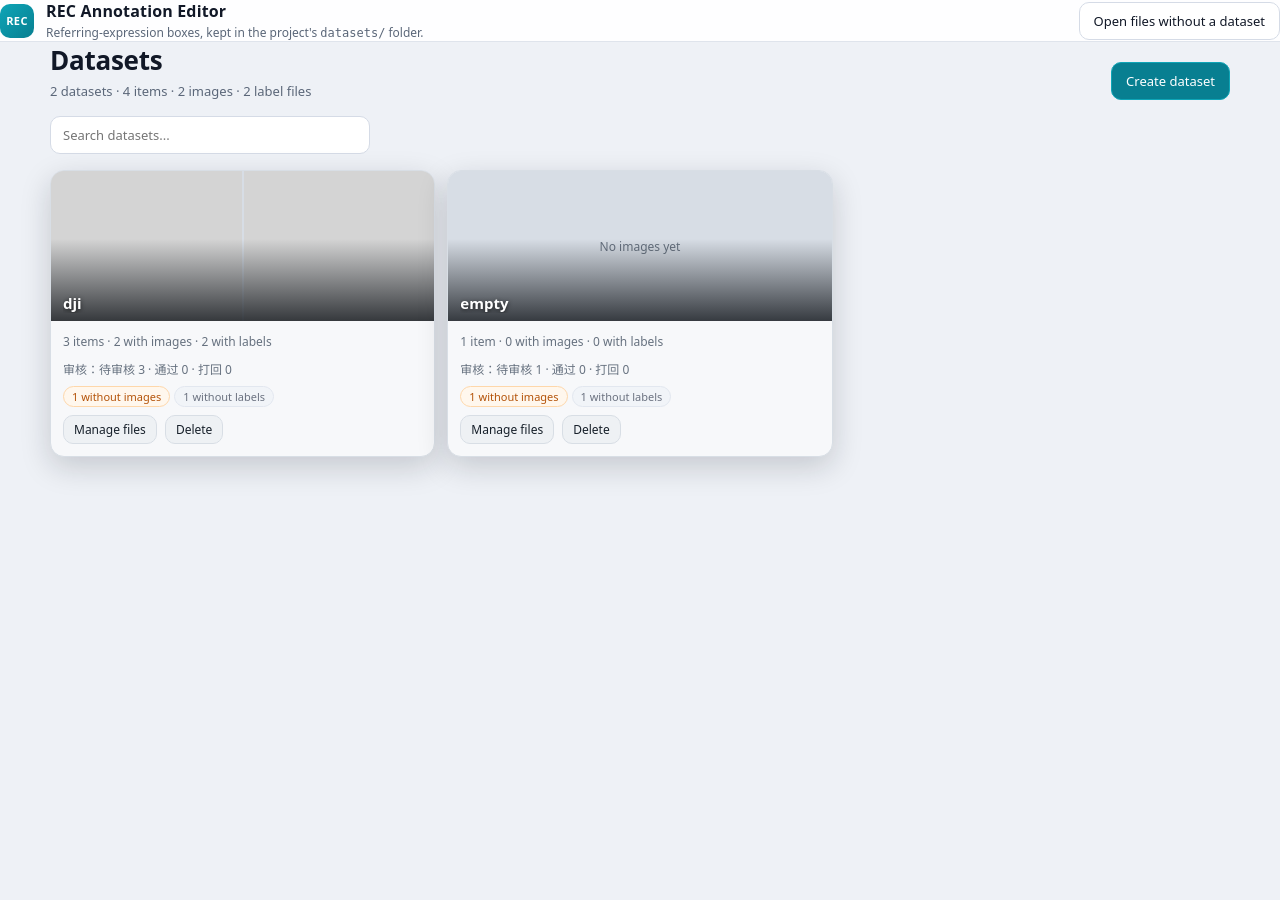
Test: deletes a dataset after confirming
This screenshot has width=1280, height=900.
Click the button with aria-label "Delete dataset dji" at (194, 430), box [165,415,223,444]
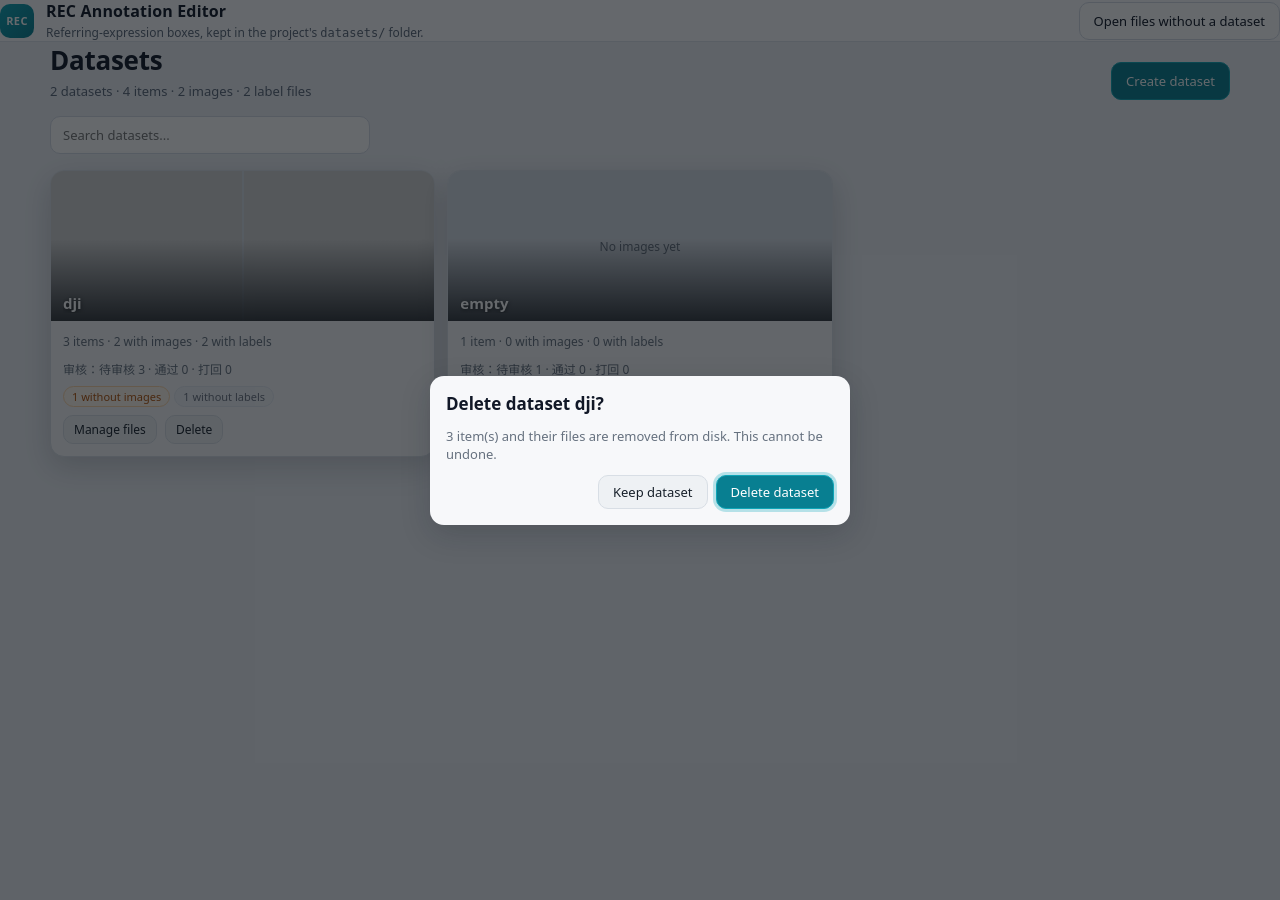
Now the dialog "Delete dataset dji?" shows "3 item(s)", box [446,426,823,462]
Click the button "Delete dataset" at (775, 492), box [716,474,834,508]
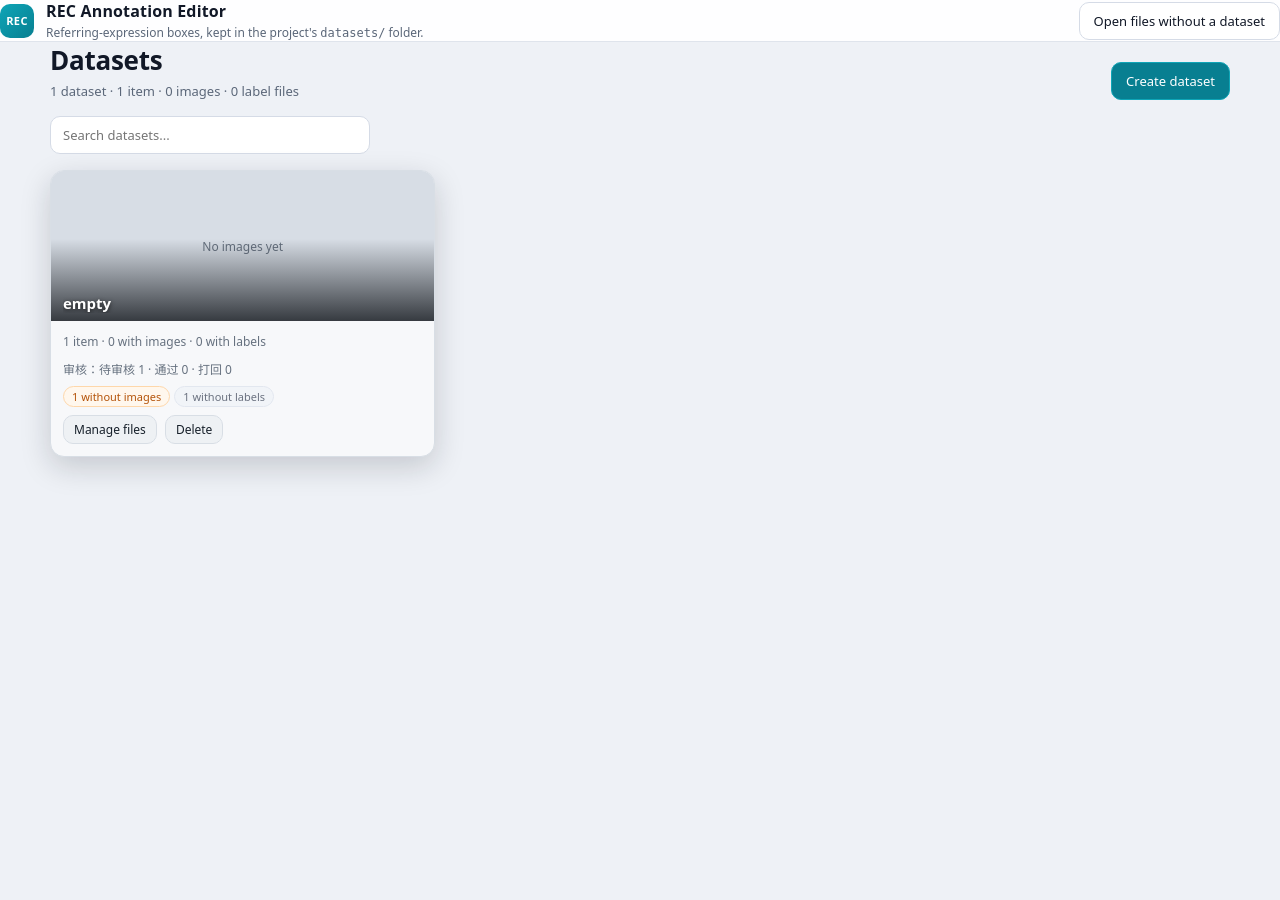
Expected: the list item with test id "dataset-card-empty" is shown, [50,170,435,457]
Now the list item with test id "dataset-card-dji" is gone
